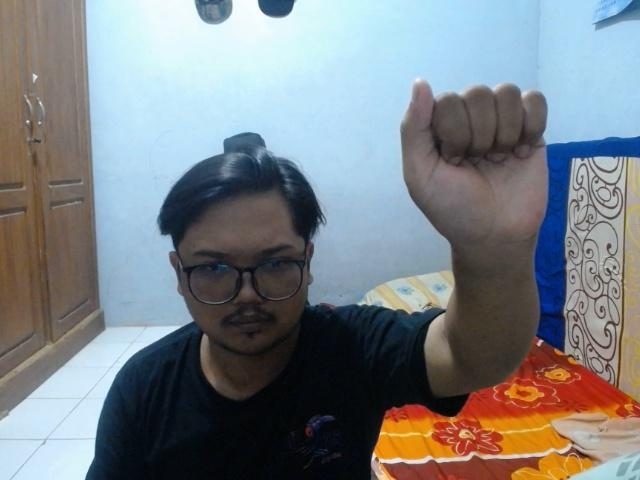Grab: (397, 71, 556, 253)
